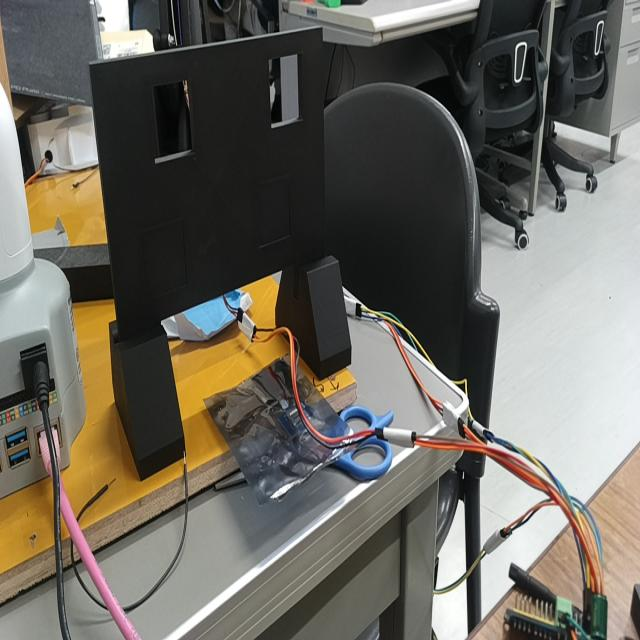Obstacle: (154, 80, 194, 162), (268, 54, 301, 127)
Wall: (89, 27, 325, 336)
